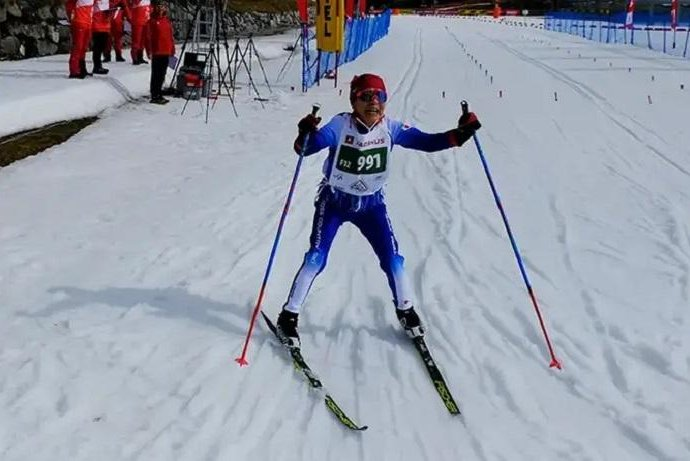skier: (233, 63, 579, 439)
